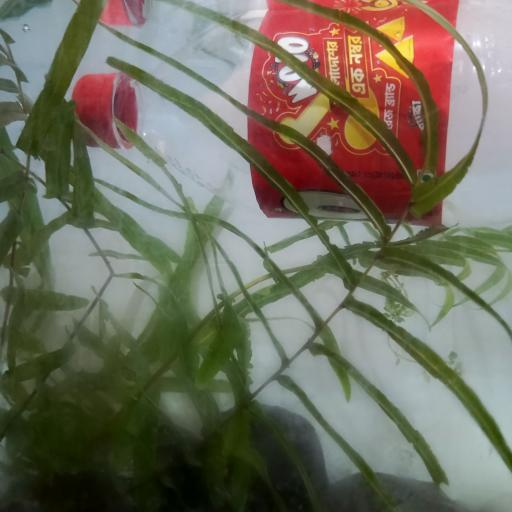bottle_cap: (78, 70, 130, 145)
plastic_bottle: (75, 0, 512, 226)
